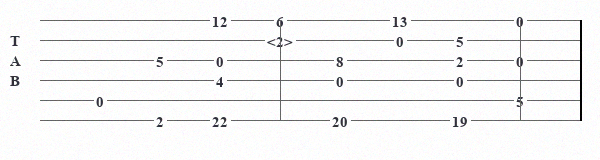0: (96, 93, 108, 107), (216, 53, 228, 67), (336, 73, 348, 87), (396, 33, 408, 47), (456, 73, 468, 87), (516, 13, 528, 27), (516, 53, 528, 67)
12: (212, 13, 232, 27)
13: (392, 13, 412, 27)
19: (452, 113, 472, 127)
2: (156, 113, 168, 127), (456, 53, 468, 67)
20: (332, 113, 352, 127)
22: (212, 113, 232, 127)
4: (216, 73, 228, 87)
5: (156, 53, 168, 67), (456, 33, 468, 47), (516, 93, 528, 107)
6: (276, 13, 288, 27)
8: (336, 53, 348, 67)
harmonic: (267, 33, 297, 47)
